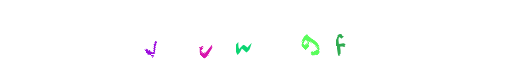C: (212, 0, 292, 80)
F: (268, 0, 348, 80)
G: (264, 0, 344, 80)
V: (141, 0, 221, 80)
W: (250, 0, 330, 80)
